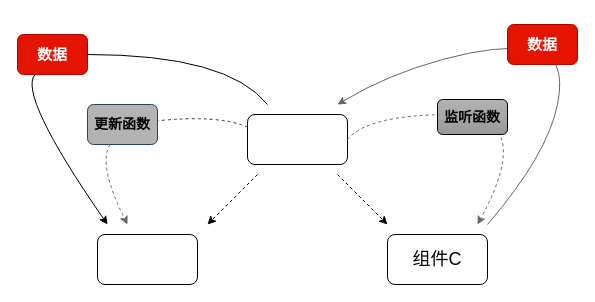
This 595x302 diagram has some shape labels left out. Each missing label, with the box of its shape:
组件A: (246, 114, 348, 164)
组件B: (96, 234, 198, 284)
